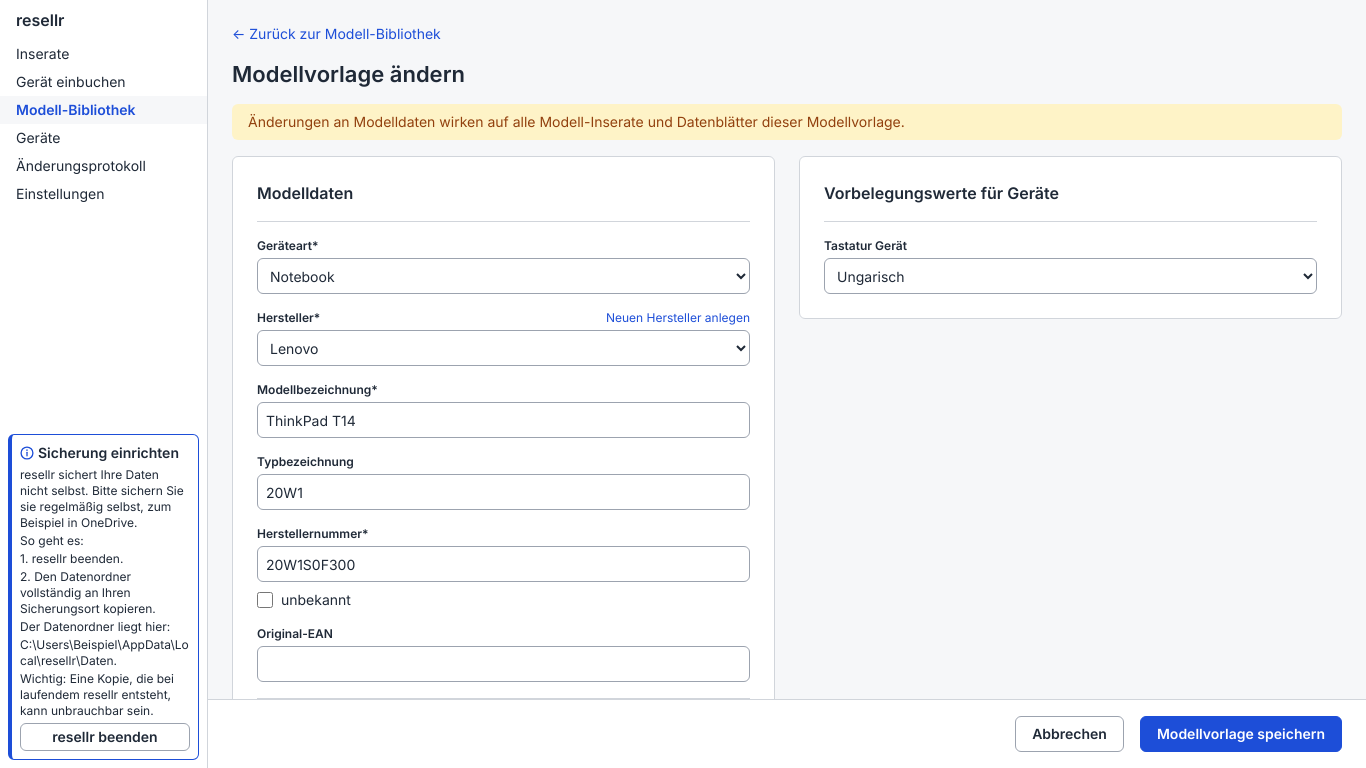
Test case: UI-007 changing a model template (CU-114, #181) › UI-007.validation AC-REQ-010-03 a field error of the server is shown at its field
Expected: the form named "Modellvorlage ändern" is shown, [232, 156, 1342, 699]
Click the button "Modellvorlage speichern". click: (1241, 734)
box: [1140, 716, 1342, 752]
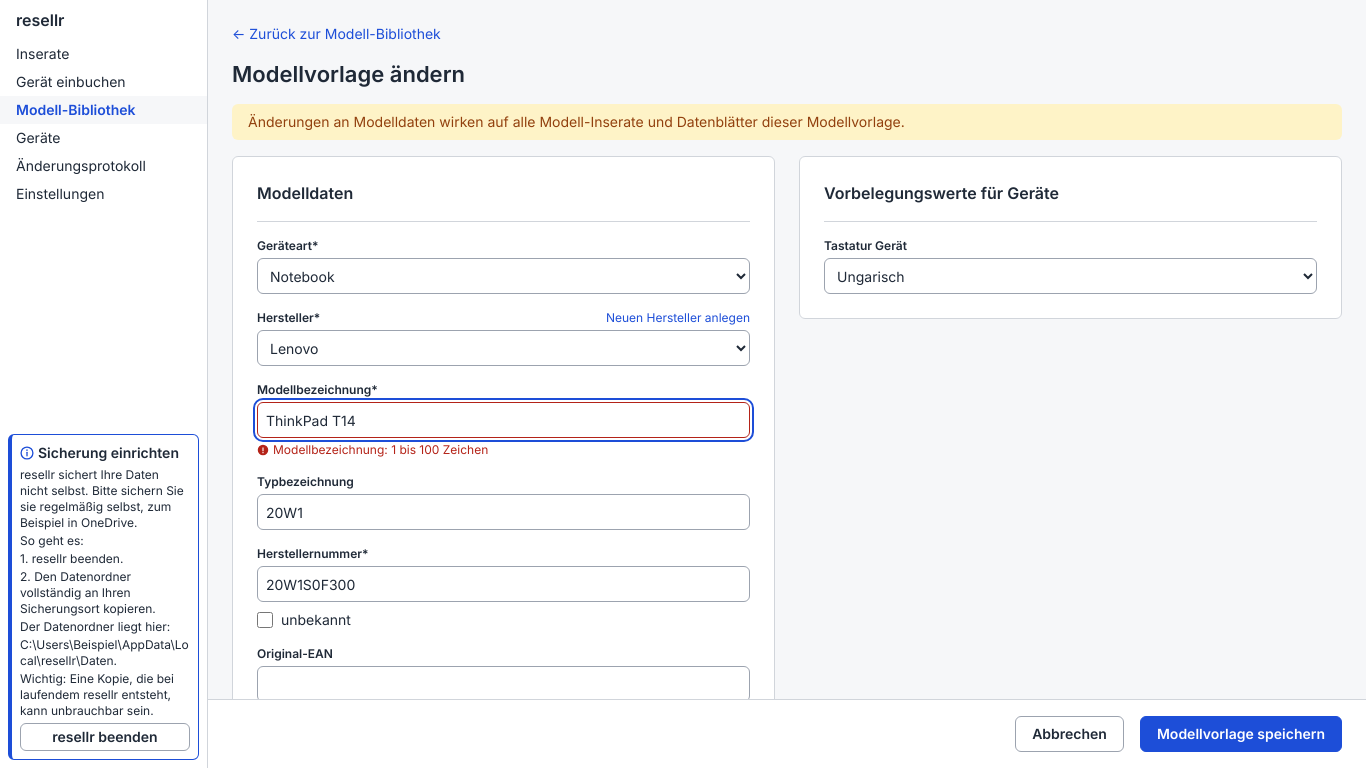
Expected: the text "Modellbezeichnung: 1 bis 100 Zeichen" is shown, [273, 442, 488, 458]
